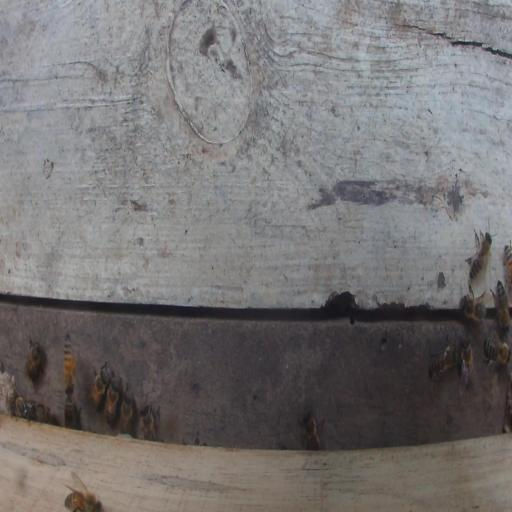bee: (457, 338, 479, 393), (429, 343, 459, 383), (470, 228, 492, 280), (491, 277, 510, 329), (483, 335, 509, 369), (63, 333, 76, 396), (461, 293, 488, 320), (64, 493, 102, 512), (303, 411, 322, 449), (140, 404, 159, 441), (92, 367, 107, 413), (107, 378, 120, 430), (26, 341, 42, 383), (121, 394, 133, 435), (10, 396, 34, 416), (64, 392, 76, 430), (23, 403, 48, 421), (503, 244, 512, 290)
